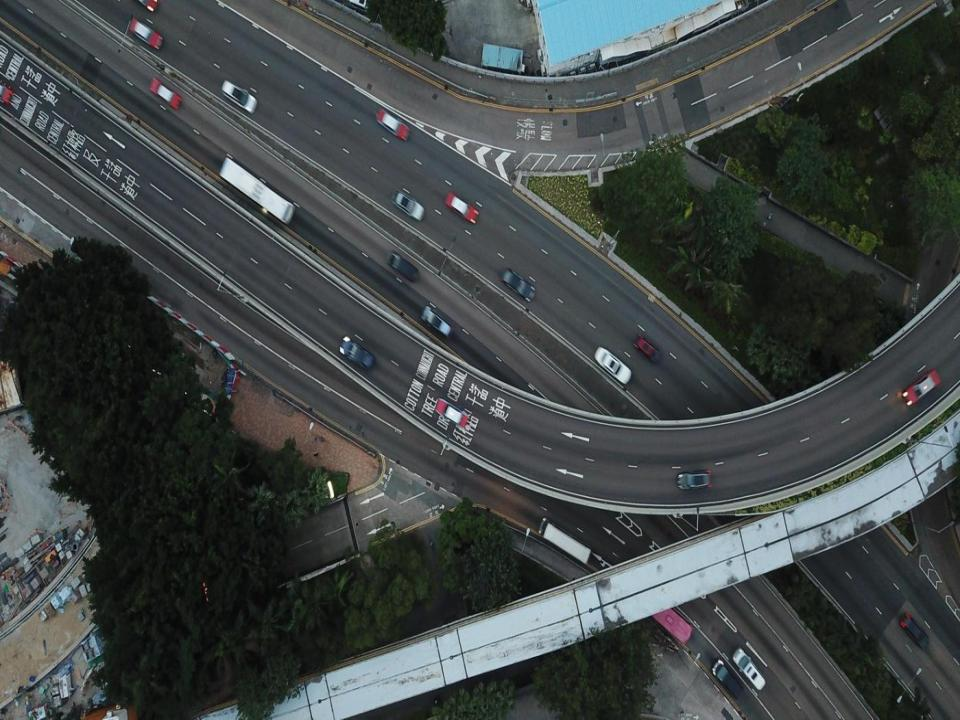bus: (216, 155, 294, 226), (635, 578, 693, 646), (538, 517, 590, 564)
car: (339, 335, 376, 372), (594, 346, 631, 382), (902, 370, 939, 406), (899, 610, 930, 650), (129, 18, 163, 52), (502, 266, 536, 300), (446, 191, 479, 226), (374, 109, 411, 140), (390, 190, 425, 221), (386, 252, 421, 283), (433, 397, 469, 426), (421, 303, 451, 337), (150, 77, 182, 108), (633, 334, 661, 364), (677, 470, 712, 489), (0, 79, 12, 106), (138, 0, 160, 14)
van: (733, 647, 766, 691), (710, 658, 744, 699), (222, 80, 257, 115)
